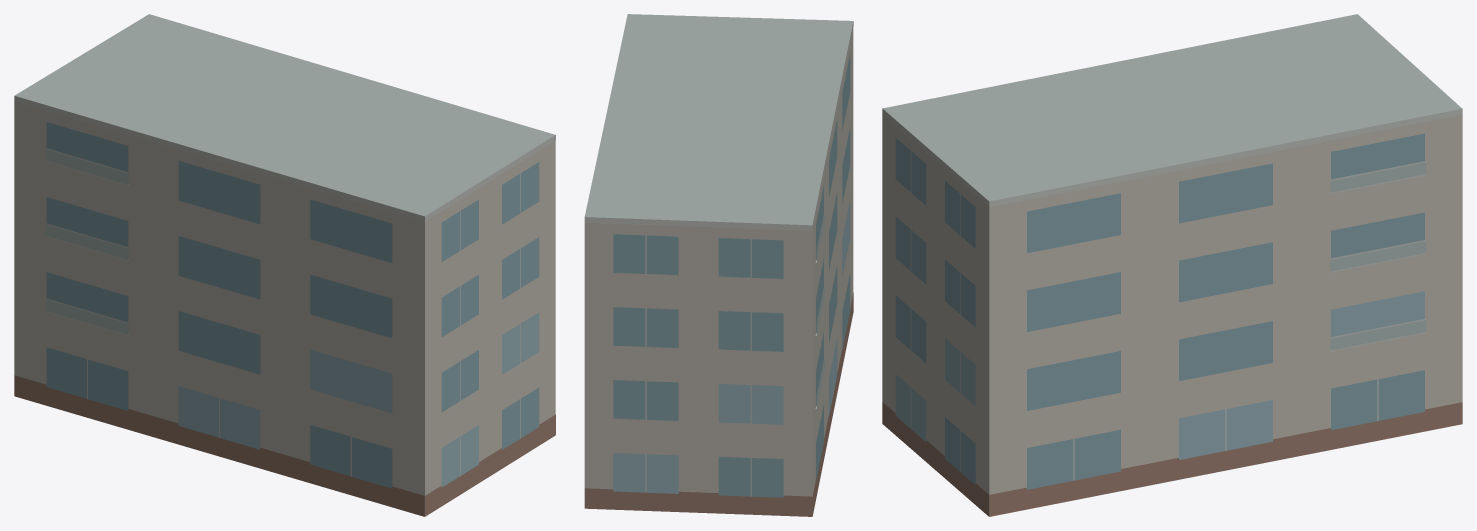
The model's file is survey-upis-32640847.glb.
3 renders of one model, left to right at view 1: azimuth 30°, elevation 25°; view 2: azimuth 150°, elevation 25°; view 3: azimuth 270°, elevation 25°, orthographic. The views are drawn at different scales.
Visible parts, largest first — view 1: survey-upis-32640847.tmp; view 2: survey-upis-32640847.tmp; view 3: survey-upis-32640847.tmp.
Part boxes in pixels (left/top/right/bottom): survey-upis-32640847.tmp: left=14, top=14, right=555, bottom=516; survey-upis-32640847.tmp: left=584, top=14, right=853, bottom=516; survey-upis-32640847.tmp: left=882, top=14, right=1462, bottom=516.
Size of the model in its own units: 16.32 by 12.8 by 21.34.
